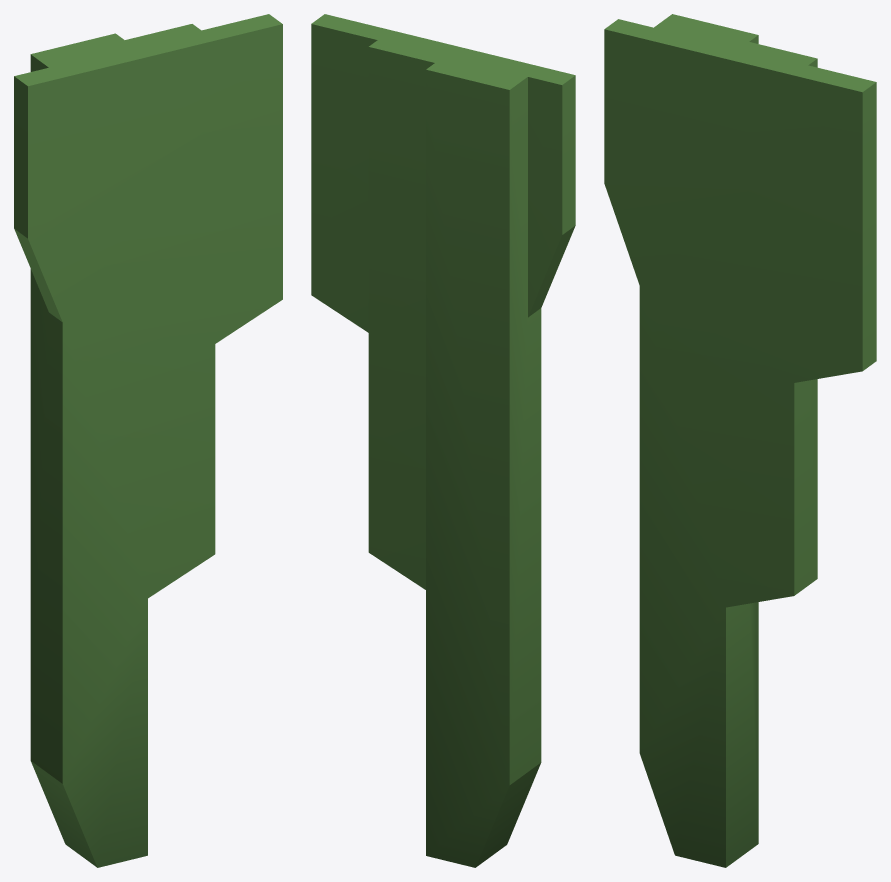
The model's file is hanging-moss.glb.
The picture shows the model from 3 angles, left to right: view 1: azimuth 30°, elevation 25°; view 2: azimuth 150°, elevation 25°; view 3: azimuth 330°, elevation 25°; orthographic projection. The views are drawn at different scales.
Visible parts, largest first — view 1: hanging-moss; view 2: hanging-moss; view 3: hanging-moss.
Boxes of the visible parts, x1,y1,x2,y2 form: hanging-moss: [14, 14, 282, 867]; hanging-moss: [311, 14, 575, 867]; hanging-moss: [604, 14, 876, 867].
Size of the model in its own units: 0.501 by 1.5 by 0.1097.
